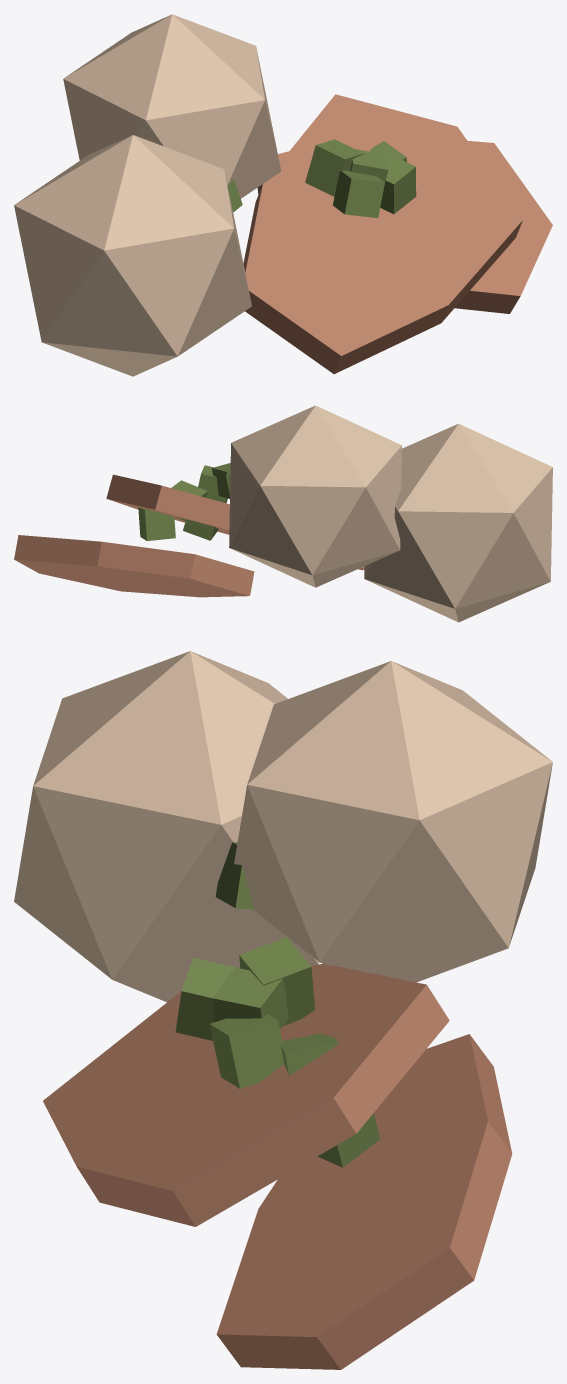
Rendered from Topping.fbx.
The picture shows the model from 3 angles, top to bottom: view 1: azimuth 30°, elevation 25°; view 2: azimuth 150°, elevation 25°; view 3: azimuth 270°, elevation 25°; orthographic projection. The views are drawn at different scales.
Visible parts, largest first — view 1: Meatballs, Sliced_Pork, Spring_Onions_Noodle; view 2: Meatballs, Sliced_Pork, Spring_Onions_Noodle; view 3: Meatballs, Sliced_Pork, Spring_Onions_Noodle.
Part boxes in pixels (x1,y1,x2,y2): Meatballs: [14, 14, 281, 376]; Sliced_Pork: [243, 94, 552, 374]; Spring_Onions_Noodle: [228, 139, 416, 218]; Meatballs: [229, 405, 552, 622]; Sliced_Pork: [14, 474, 364, 597]; Spring_Onions_Noodle: [138, 463, 230, 540]; Meatballs: [14, 651, 552, 1002]; Sliced_Pork: [43, 963, 512, 1369]; Spring_Onions_Noodle: [175, 842, 380, 1167].
Size of the model in its own units: 117 by 66.1 by 64.95.
